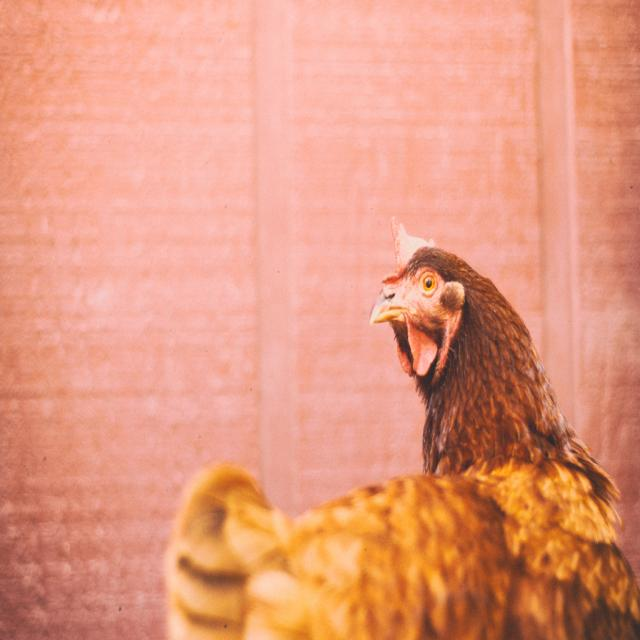Chicken: (163, 210, 640, 640)
